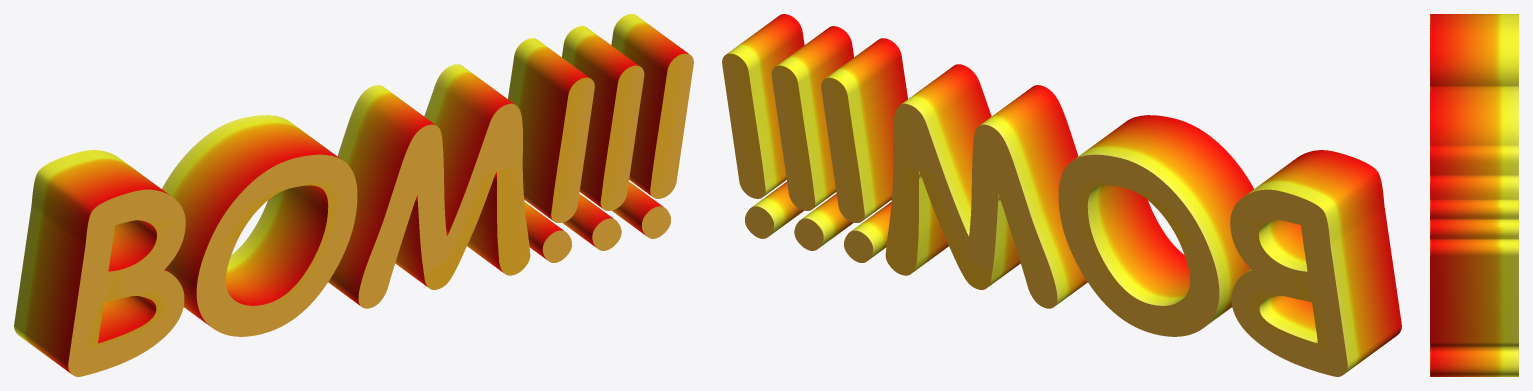
The model's file is soundEffects.obj.
The picture shows the model from 3 angles, left to right: view 1: azimuth 30°, elevation 25°; view 2: azimuth 150°, elevation 25°; view 3: azimuth 270°, elevation 25°; orthographic projection. The views are drawn at different scales.
Visible parts, largest first — view 1: テキスト; view 2: テキスト; view 3: テキスト.
Boxes of the visible parts, box(x1,y1,x2,y2) form: テキスト: box(14, 14, 693, 376); テキスト: box(722, 14, 1401, 376); テキスト: box(1430, 14, 1518, 376).
Bounding box in the file's own units: 2.14 × 0.5872 × 0.32.
1 material, 1 textured.
